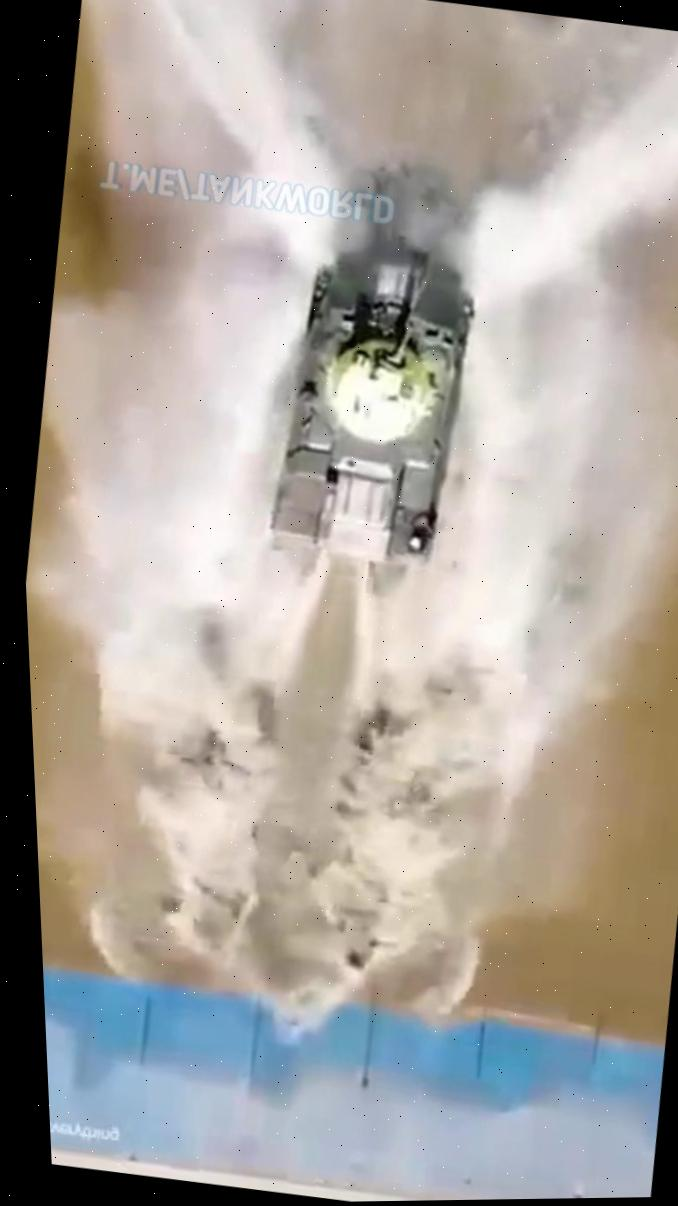tank: (234, 178, 516, 584)
